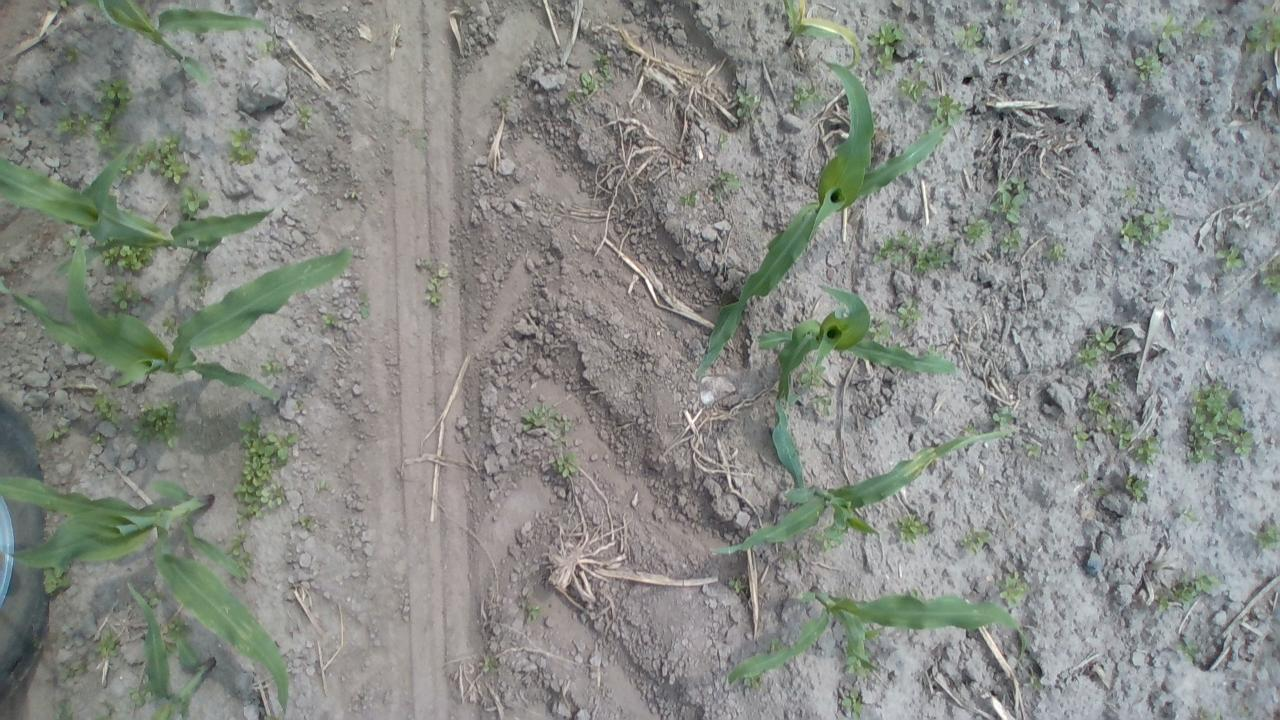Maize: (688, 63, 950, 378), (0, 474, 292, 720), (0, 241, 353, 398), (716, 400, 1009, 555), (725, 583, 1028, 694), (0, 144, 281, 259), (754, 282, 964, 408), (88, 0, 274, 85), (123, 580, 217, 720), (777, 0, 863, 65)
Weeds: (230, 416, 299, 520), (1183, 380, 1254, 466), (80, 76, 132, 158), (874, 229, 958, 273), (122, 134, 192, 185), (518, 402, 575, 446), (130, 402, 182, 449), (1154, 570, 1218, 608), (1242, 4, 1280, 57), (416, 253, 451, 308), (1118, 206, 1170, 243), (990, 175, 1028, 224), (869, 21, 904, 74), (100, 242, 154, 272), (1076, 326, 1116, 362), (182, 255, 216, 296), (890, 513, 932, 544), (924, 92, 964, 124), (228, 126, 260, 166), (178, 186, 212, 222), (226, 530, 248, 584), (108, 280, 144, 312), (1104, 412, 1134, 450), (1156, 14, 1184, 53), (998, 572, 1028, 608), (790, 82, 824, 112), (956, 528, 992, 556), (1132, 50, 1164, 81), (732, 86, 760, 121), (1134, 433, 1162, 468), (1251, 520, 1280, 552), (839, 686, 866, 720), (954, 22, 986, 50), (93, 630, 122, 660), (54, 110, 90, 134), (1123, 474, 1152, 503), (127, 676, 155, 706), (42, 565, 70, 595), (897, 299, 923, 331), (550, 450, 578, 479), (814, 526, 845, 552), (94, 394, 120, 424), (1213, 246, 1243, 272), (1086, 390, 1112, 419), (593, 49, 617, 80), (962, 218, 989, 245), (798, 362, 826, 388), (868, 317, 894, 342), (294, 102, 316, 131), (716, 170, 740, 196), (990, 406, 1014, 432), (844, 654, 868, 679), (900, 78, 926, 101), (1260, 260, 1277, 295), (44, 420, 68, 443), (999, 228, 1022, 252), (260, 356, 286, 377), (1190, 16, 1214, 38), (162, 614, 186, 636), (578, 70, 599, 95), (1071, 424, 1090, 451), (812, 394, 834, 417), (520, 600, 542, 623), (320, 308, 341, 332), (58, 43, 82, 64), (356, 290, 372, 320), (1044, 241, 1066, 262), (1179, 640, 1200, 662), (296, 513, 318, 533), (60, 234, 81, 254), (480, 652, 499, 674), (58, 662, 84, 678), (160, 314, 180, 334), (680, 188, 699, 208), (53, 701, 73, 720), (766, 636, 786, 655), (1122, 184, 1140, 205), (256, 41, 278, 58), (1024, 439, 1043, 458), (1004, 0, 1022, 20), (728, 576, 748, 594), (743, 672, 763, 690), (142, 588, 161, 606), (10, 102, 28, 121), (924, 344, 945, 360), (1176, 508, 1196, 524), (1196, 708, 1222, 720), (1024, 674, 1042, 691), (90, 432, 108, 448), (1106, 378, 1124, 394), (414, 129, 428, 148), (498, 94, 511, 113), (565, 89, 580, 105), (910, 58, 929, 70), (1092, 484, 1108, 498), (718, 132, 731, 149), (256, 0, 278, 9), (317, 480, 328, 492), (1078, 470, 1090, 481), (60, 0, 74, 9)
